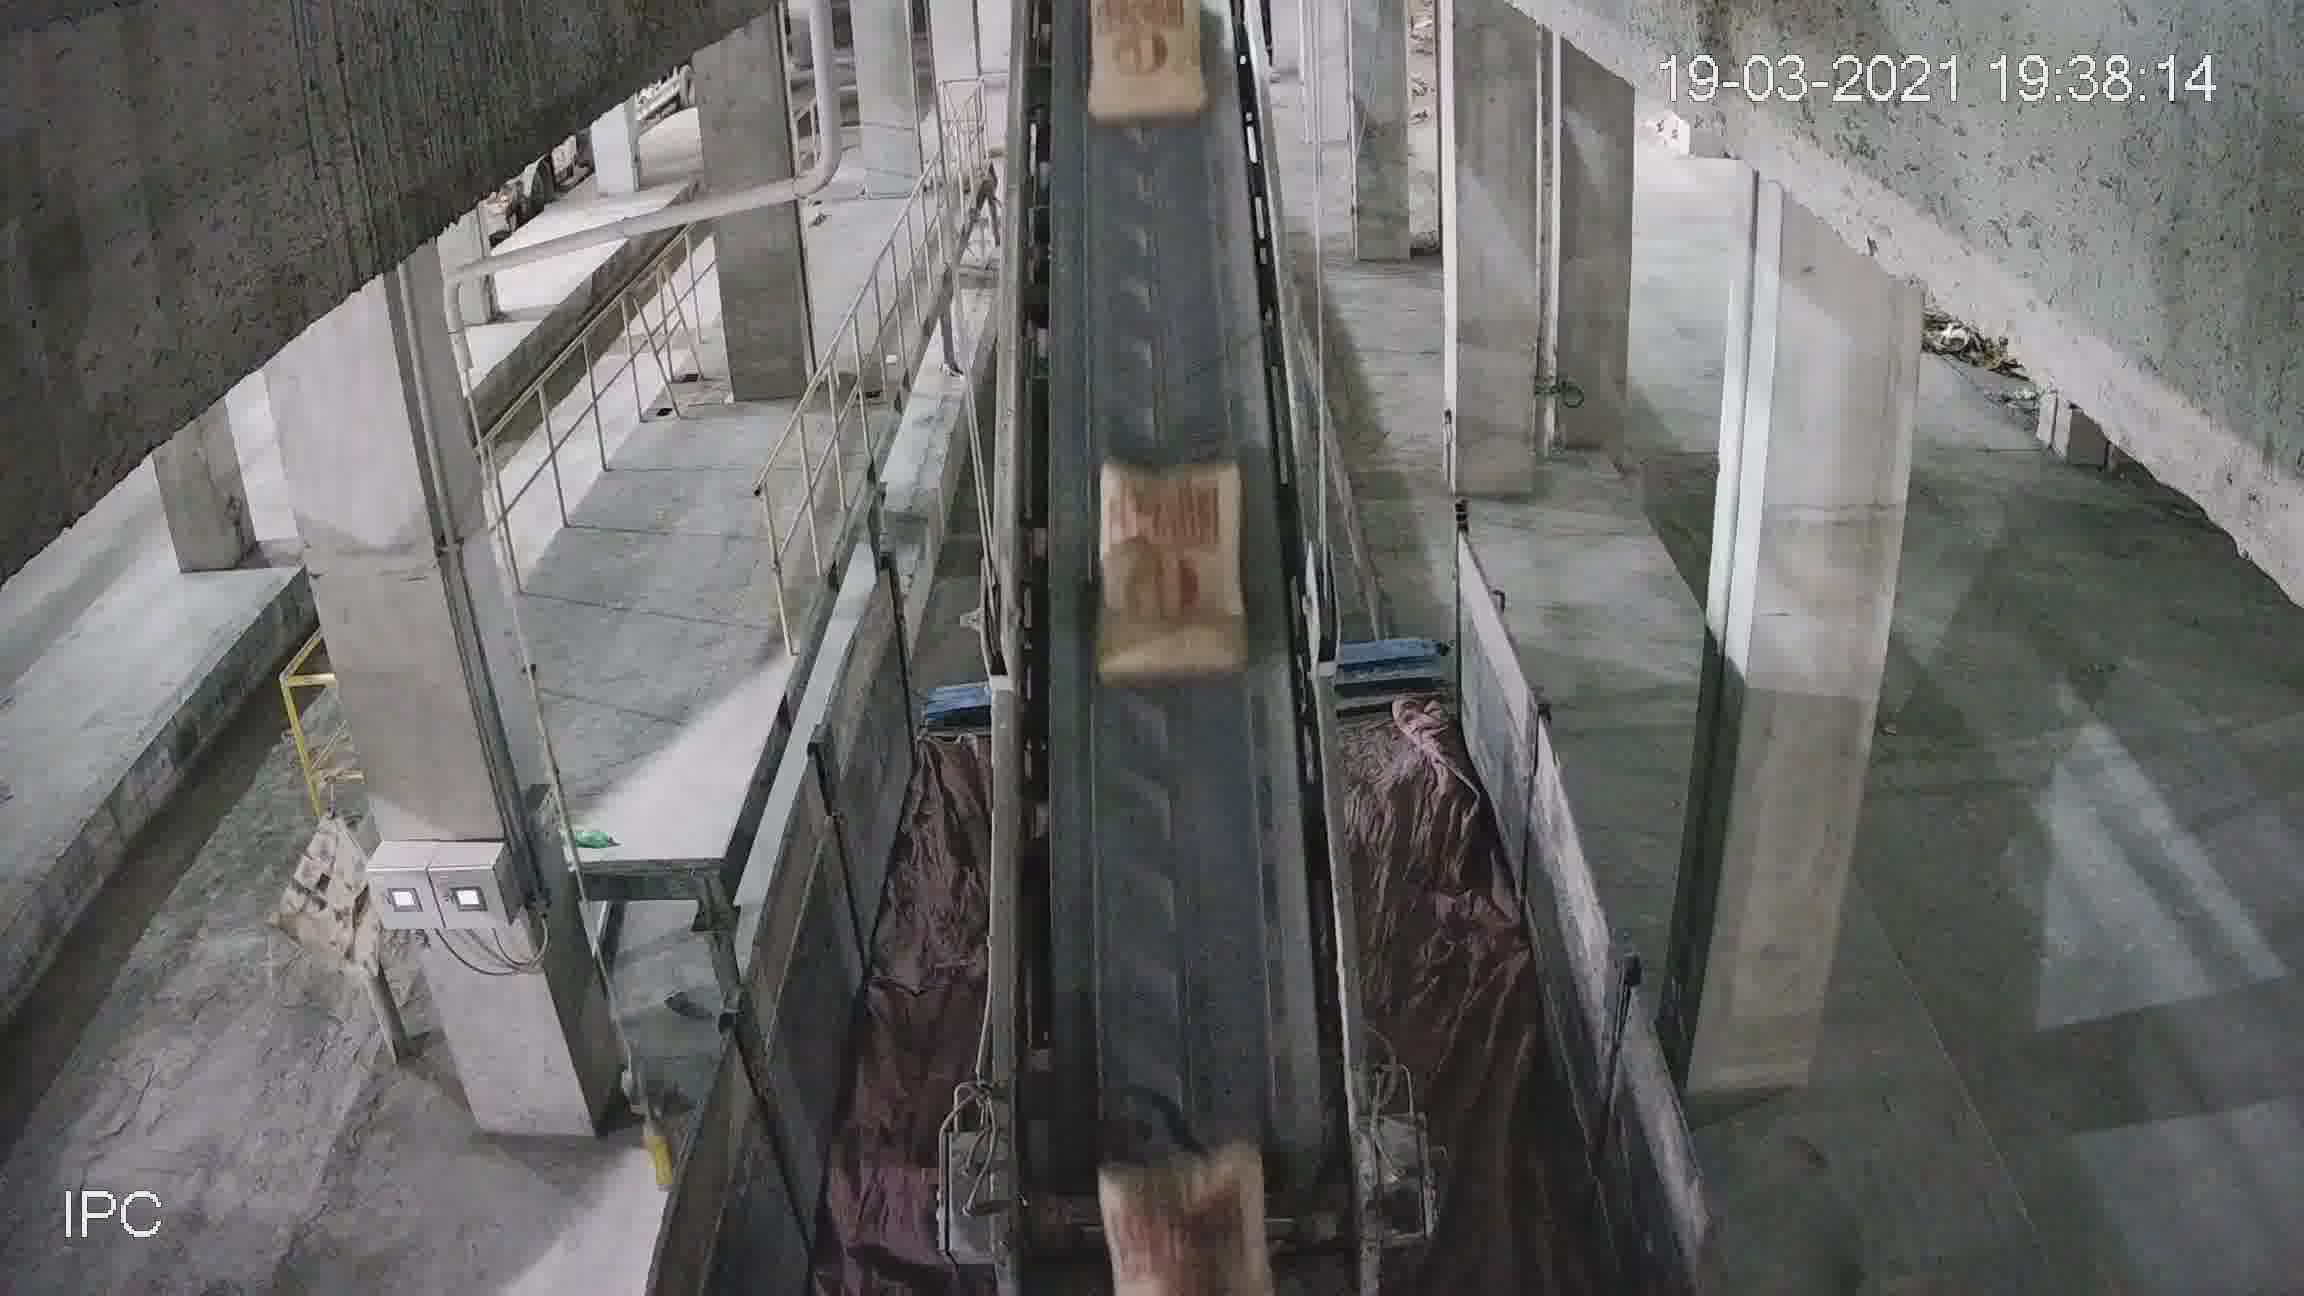bag: (1097, 453, 1249, 677), (1100, 1116, 1266, 1204), (1084, 21, 1214, 112)
belt: (1013, 2, 1359, 1146)
